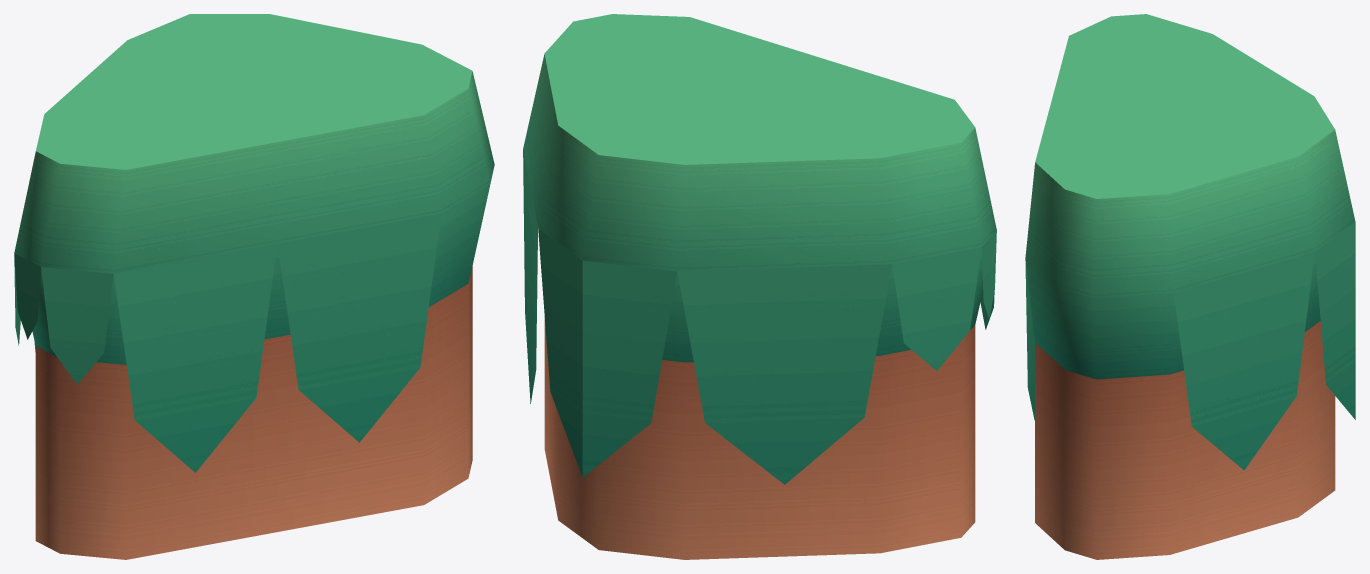
File: block-grass-corner-overhang-low.008_lev2.glb
The picture shows the model from 3 angles, left to right: view 1: azimuth 30°, elevation 25°; view 2: azimuth 150°, elevation 25°; view 3: azimuth 270°, elevation 25°; orthographic projection. The views are drawn at different scales.
Visible parts, largest first — view 1: block-grass-corner-overhang-low.008_lev2; view 2: block-grass-corner-overhang-low.008_lev2; view 3: block-grass-corner-overhang-low.008_lev2.
Part boxes in pixels (box(x1,y1,x2,y2)): block-grass-corner-overhang-low.008_lev2: box(14, 14, 494, 559); block-grass-corner-overhang-low.008_lev2: box(523, 14, 996, 559); block-grass-corner-overhang-low.008_lev2: box(1025, 14, 1355, 559).
Size of the model in its own units: 3.46 by 2.86 by 2.37.
1 material, 1 textured.
